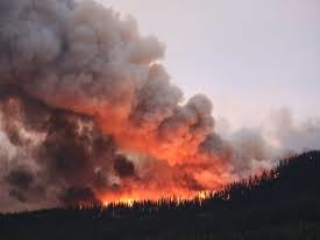fire: (87, 181, 235, 209)
smoke: (10, 5, 271, 176)
